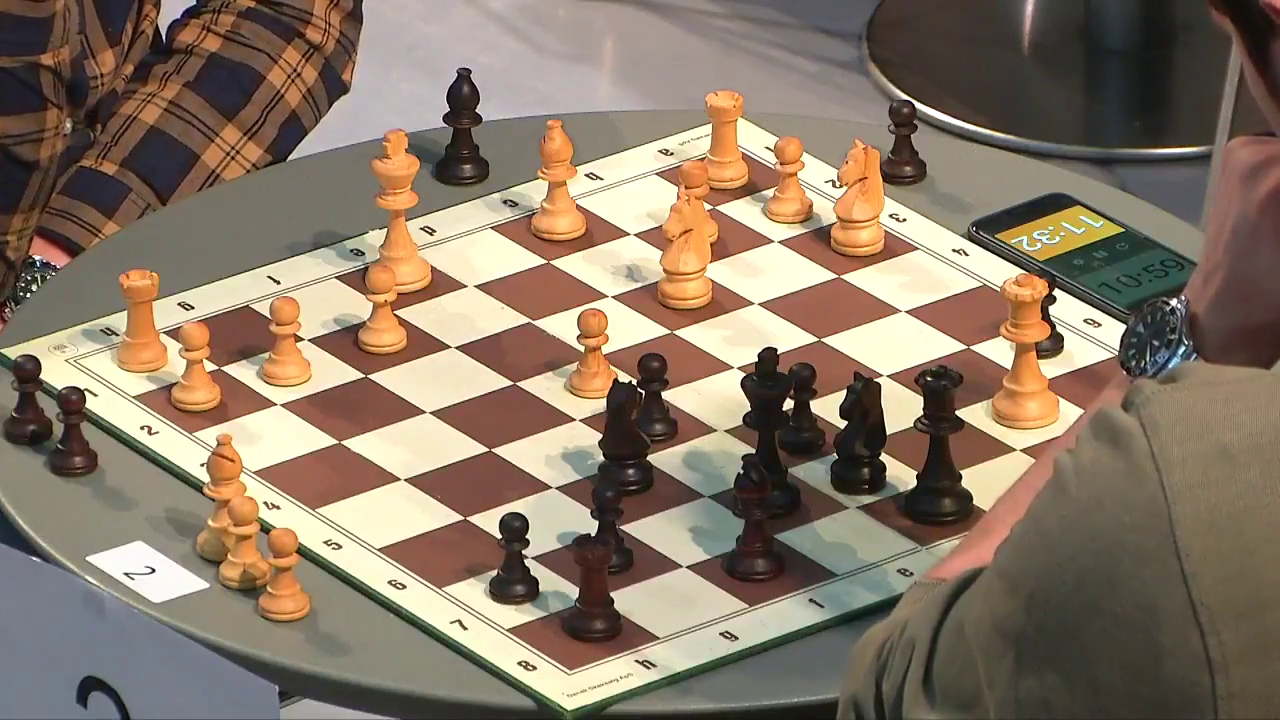black-bishop: (720, 452, 786, 583), (432, 67, 490, 187)
black-king: (731, 345, 803, 520)
black-knight: (592, 378, 656, 496), (829, 369, 887, 497)
black-pawn: (560, 532, 623, 643), (577, 480, 635, 576), (485, 511, 540, 605), (625, 351, 680, 445), (1010, 270, 1065, 360), (46, 385, 99, 478), (1, 354, 54, 446), (776, 360, 827, 455), (876, 99, 928, 186)
black-queen: (902, 363, 974, 527)
white-bishop: (194, 432, 255, 563), (529, 119, 588, 242)
white-king: (363, 127, 434, 295)
white-knight: (656, 191, 714, 311), (829, 137, 886, 258)
white-pawn: (256, 527, 313, 624), (217, 495, 273, 592), (258, 295, 313, 388), (169, 320, 223, 414), (564, 308, 619, 400), (661, 159, 719, 246), (355, 263, 409, 356), (761, 134, 814, 225)
white-queen: (990, 272, 1060, 430)
white-rook: (115, 269, 169, 374), (695, 89, 750, 191)
